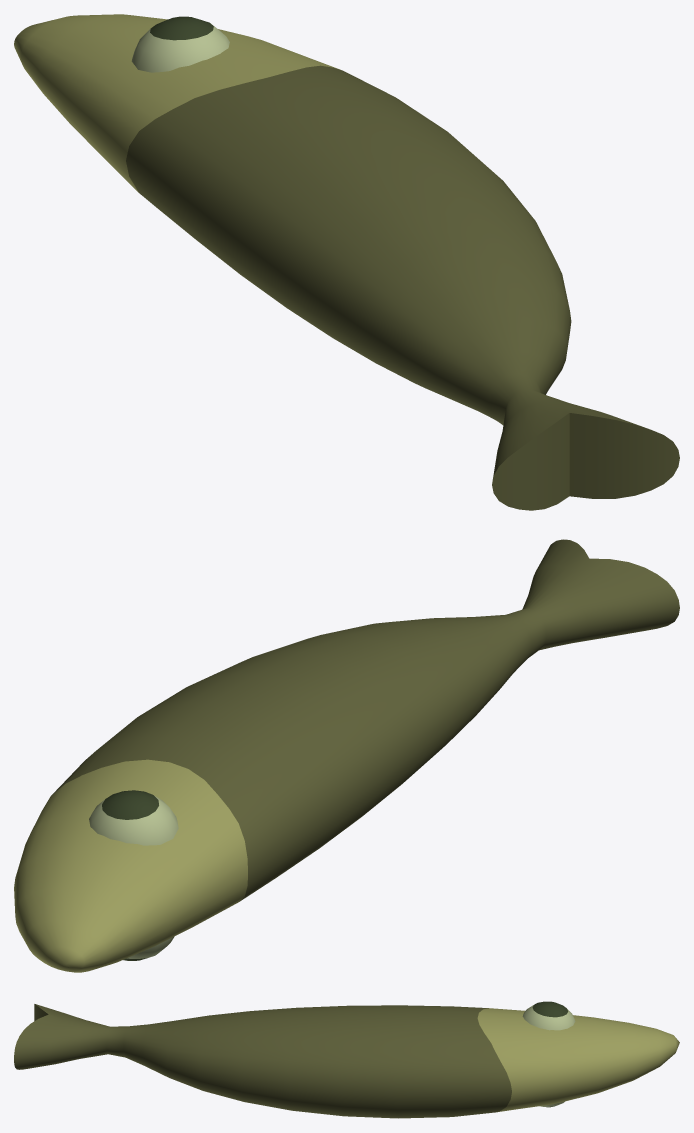
The model's file is Fish B.fbx.
3 renders of one model, top to bottom at view 1: azimuth 30°, elevation 25°; view 2: azimuth 150°, elevation 25°; view 3: azimuth 270°, elevation 25°, orthographic. The views are drawn at different scales.
Visible parts, largest first — view 1: Fish B; view 2: Fish B; view 3: Fish B.
Part boxes in pixels (x1=…): Fish B: x1=14, y1=14, x2=679, y2=510; Fish B: x1=14, y1=539, x2=679, y2=972; Fish B: x1=14, y1=1001, x2=679, y2=1118.
Size of the model in its own units: 0.1408 by 0.0802 by 0.4827.
